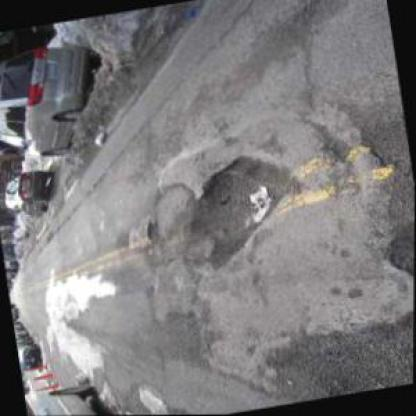pothole: (139, 218, 161, 238)
